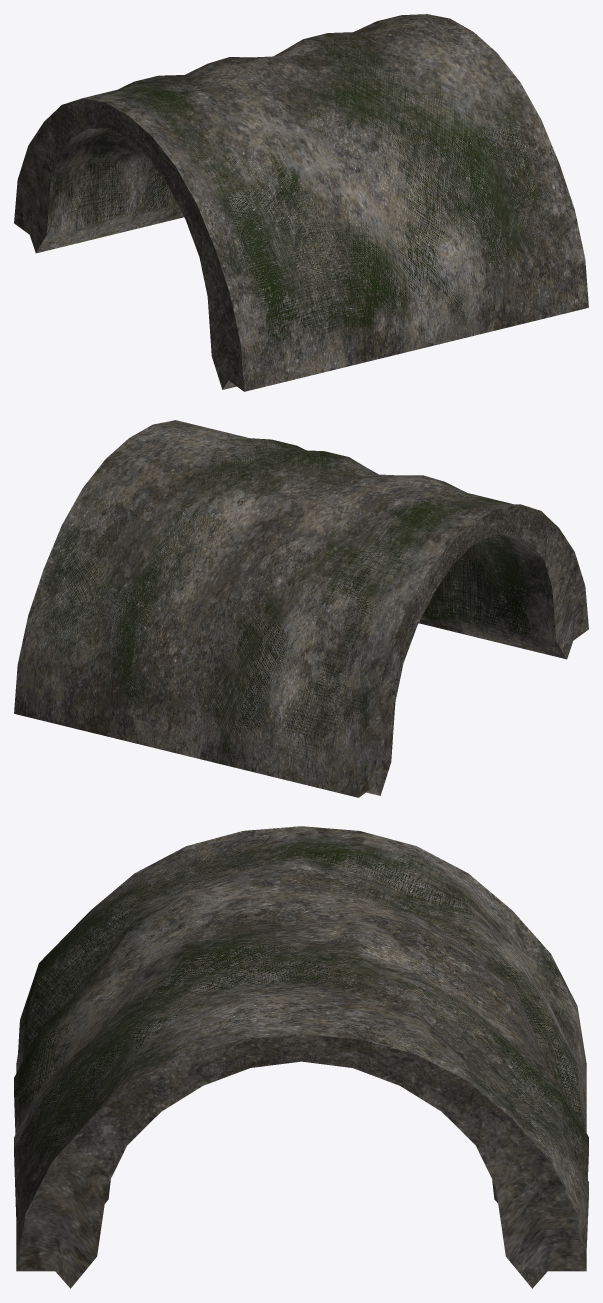
The model's file is underground_floor_wall_02.fbx.
3 renders of one model, top to bottom at view 1: azimuth 30°, elevation 25°; view 2: azimuth 150°, elevation 25°; view 3: azimuth 270°, elevation 25°, orthographic. The views are drawn at different scales.
Parts seen in each view (by area): view 1: underground_ceiling_03; view 2: underground_ceiling_03; view 3: underground_ceiling_03.
Part boxes in pixels (x1,y1,x2,y2): underground_ceiling_03: (14,14,588,391); underground_ceiling_03: (14,420,588,797); underground_ceiling_03: (14,826,588,1288).
Size of the model in its own units: 330 by 191 by 385.
1 material, 1 textured.
